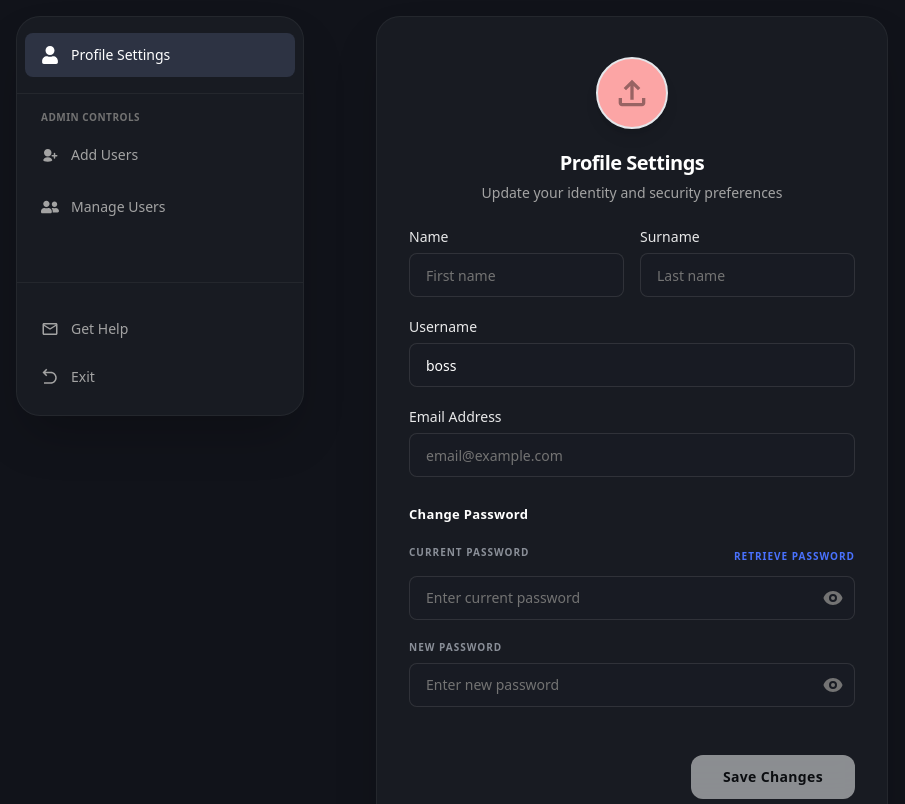
Test: ManageAccountSettingsScreen › renders Sidebar and transitions tabs
Expected: the text "Profile Settings" is shown, [25,33,295,77]
Click on Add Users trigger
Click the text "Add Users" at {"x": 90, "y": 154}, box [41,145,138,164]
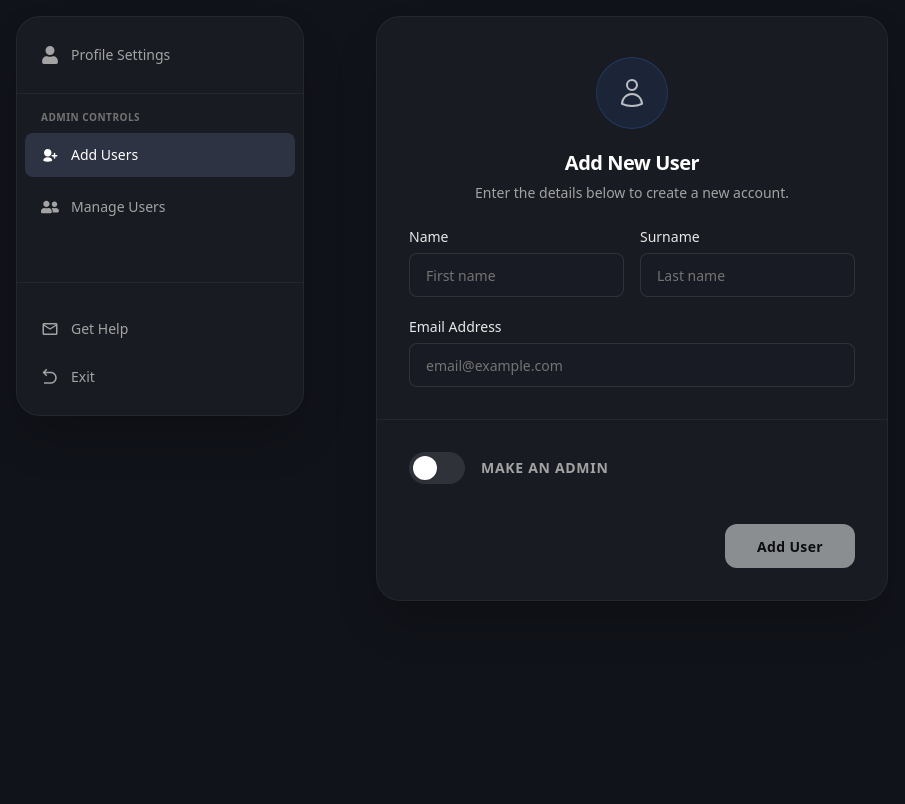
Result: the heading "Add New User" is shown at [565,149,699,177]
